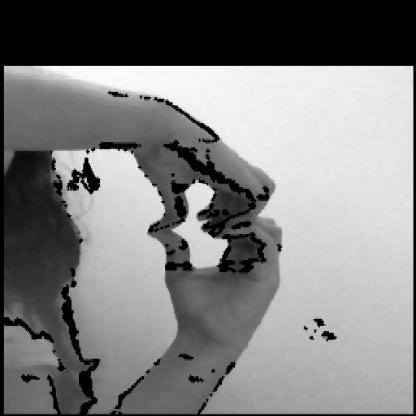heart: (129, 97, 291, 354)
